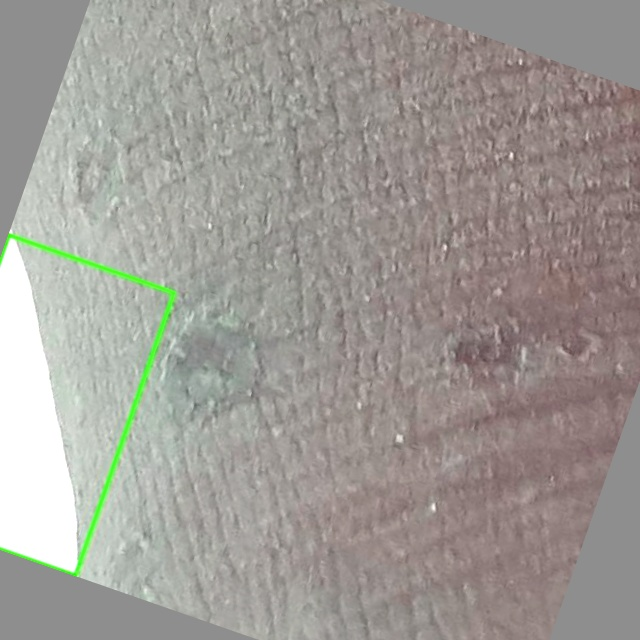Contact Dermatitis: (0, 235, 174, 575)
